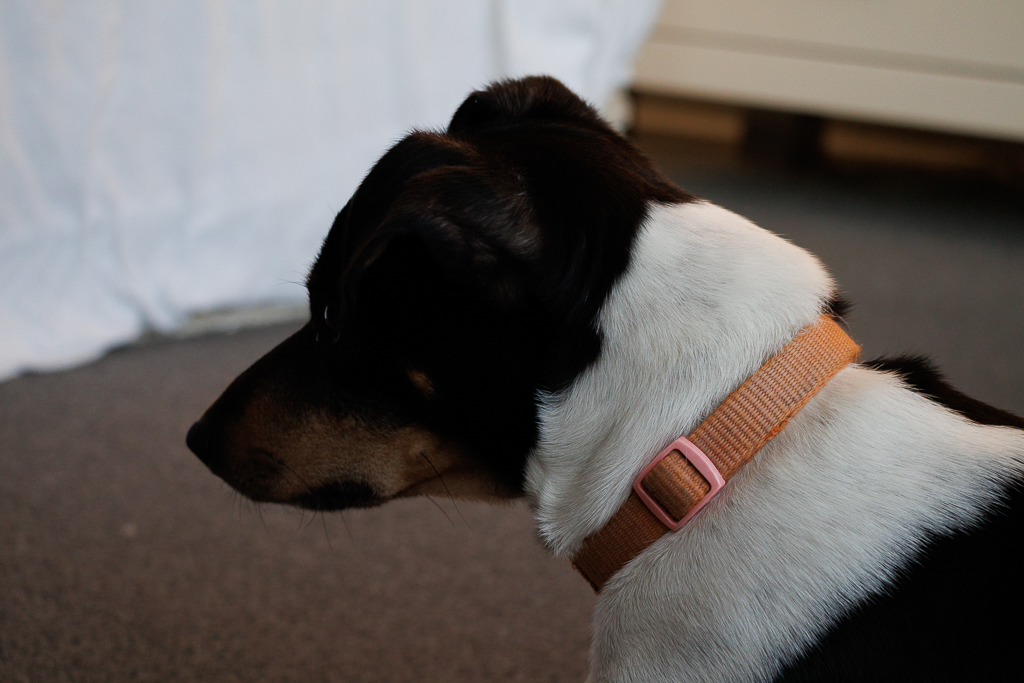Dog: (176, 65, 1024, 683)
